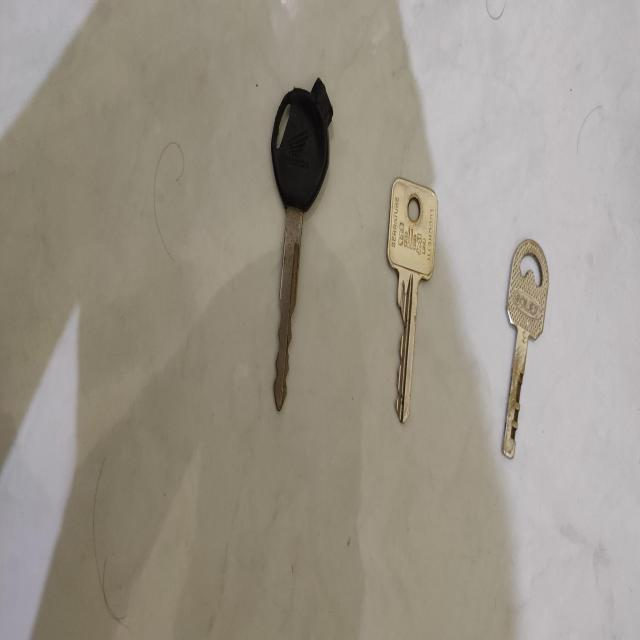kunci_kos: (384, 173, 441, 428)
kunci_motor: (268, 73, 334, 416)
kunci_pagar: (496, 236, 553, 461)
